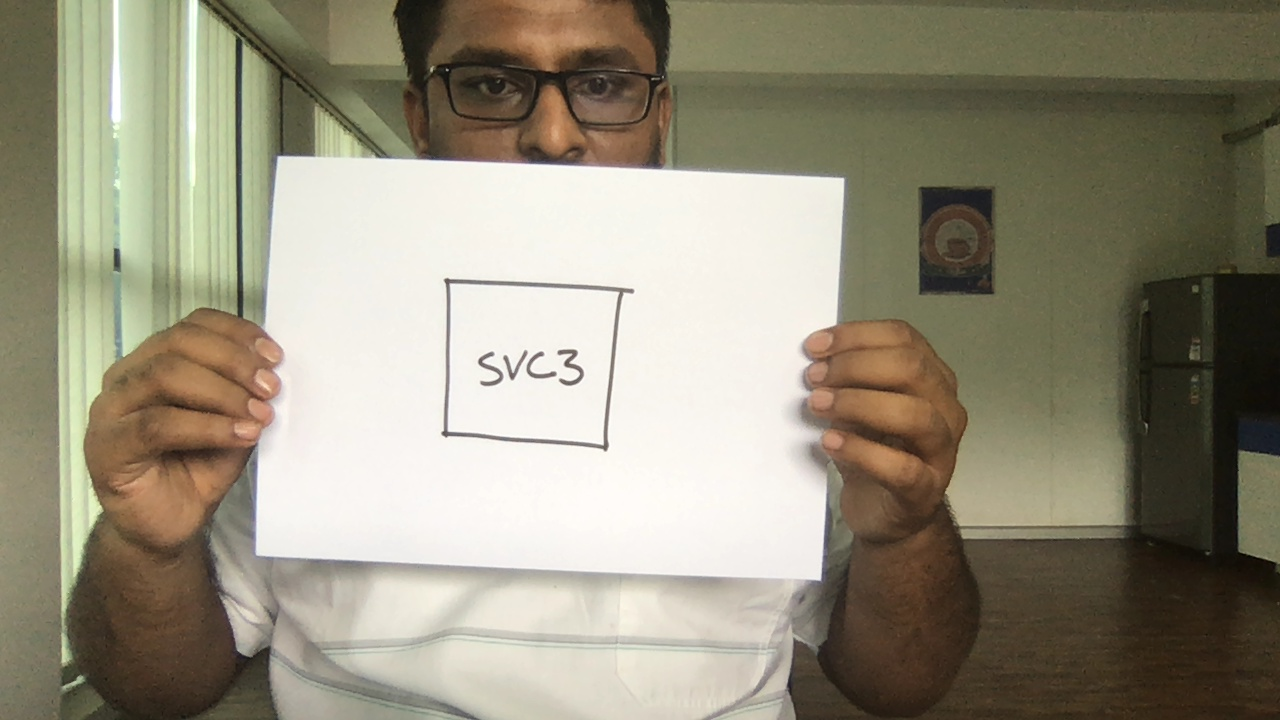ec2: (435, 269, 634, 460)
